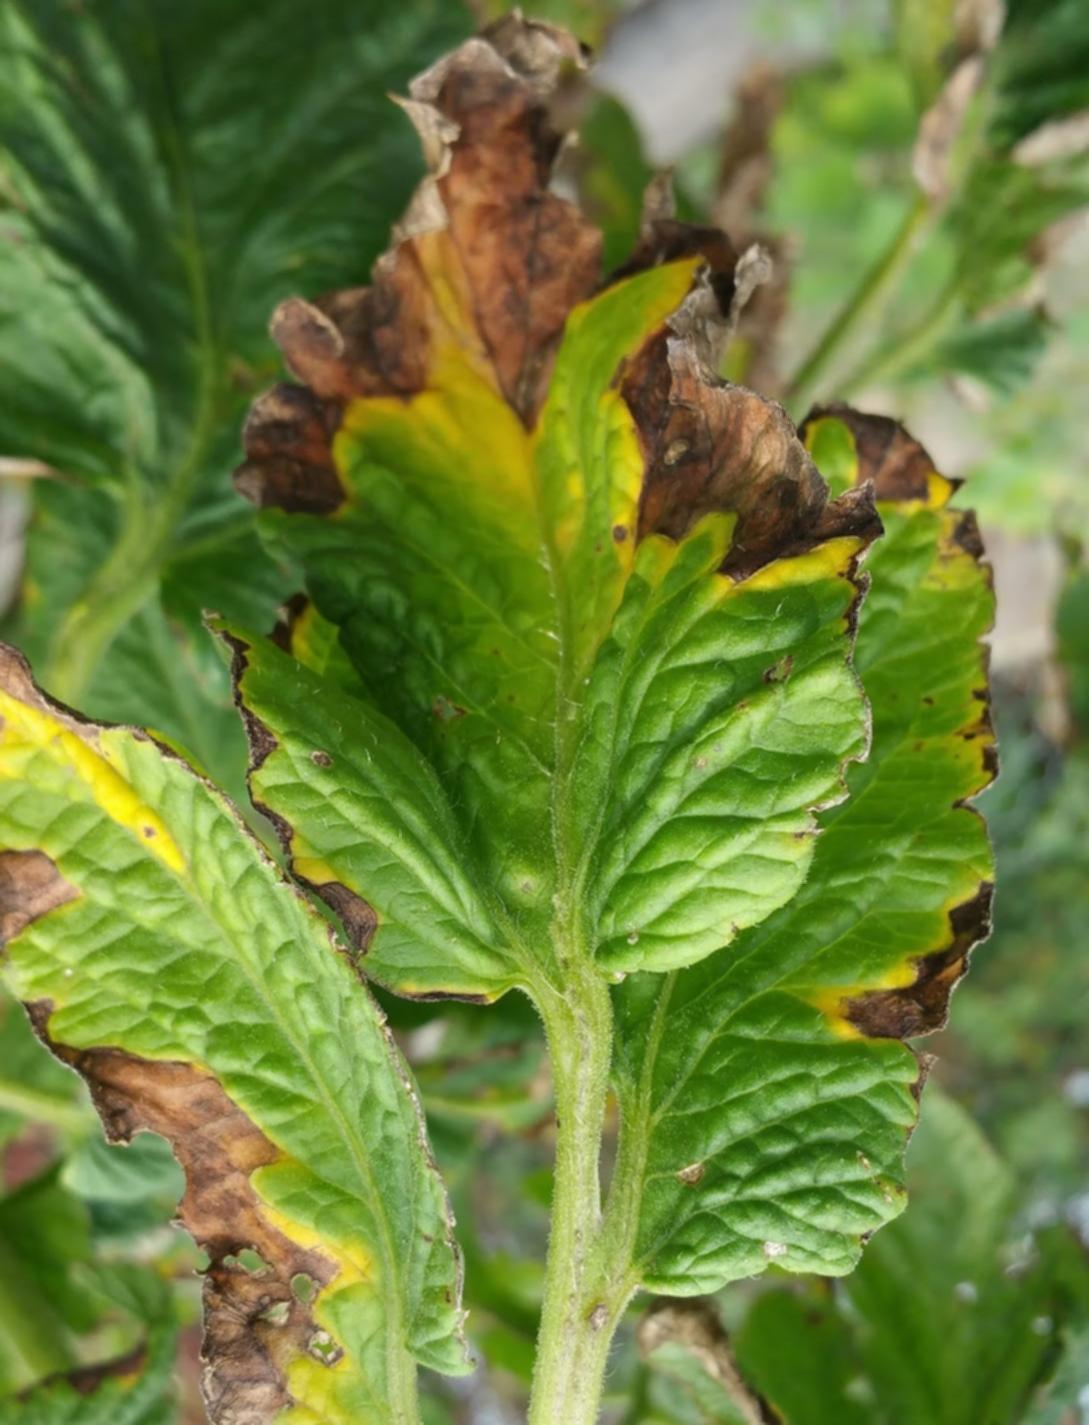Tomato leaf bacterial spot: (243, 57, 883, 1046), (559, 387, 1046, 1319), (0, 586, 470, 1425)
